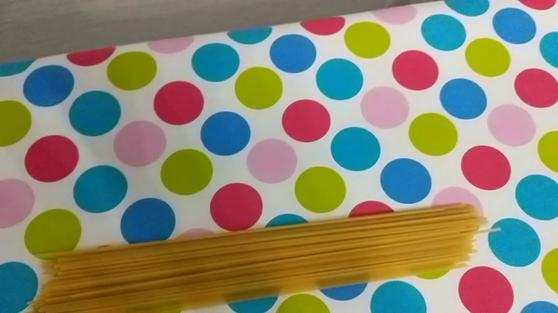spaghetti: (31, 179, 516, 313)
